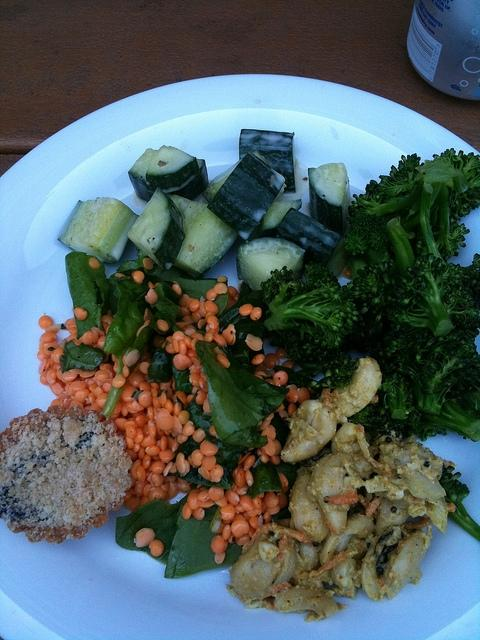broccoli: (348, 148, 480, 265), (375, 321, 480, 416), (350, 258, 400, 342), (400, 392, 480, 442), (438, 464, 480, 542), (270, 330, 353, 363), (298, 349, 359, 389), (386, 216, 416, 273), (352, 406, 408, 436), (378, 374, 415, 419), (397, 153, 421, 184)
